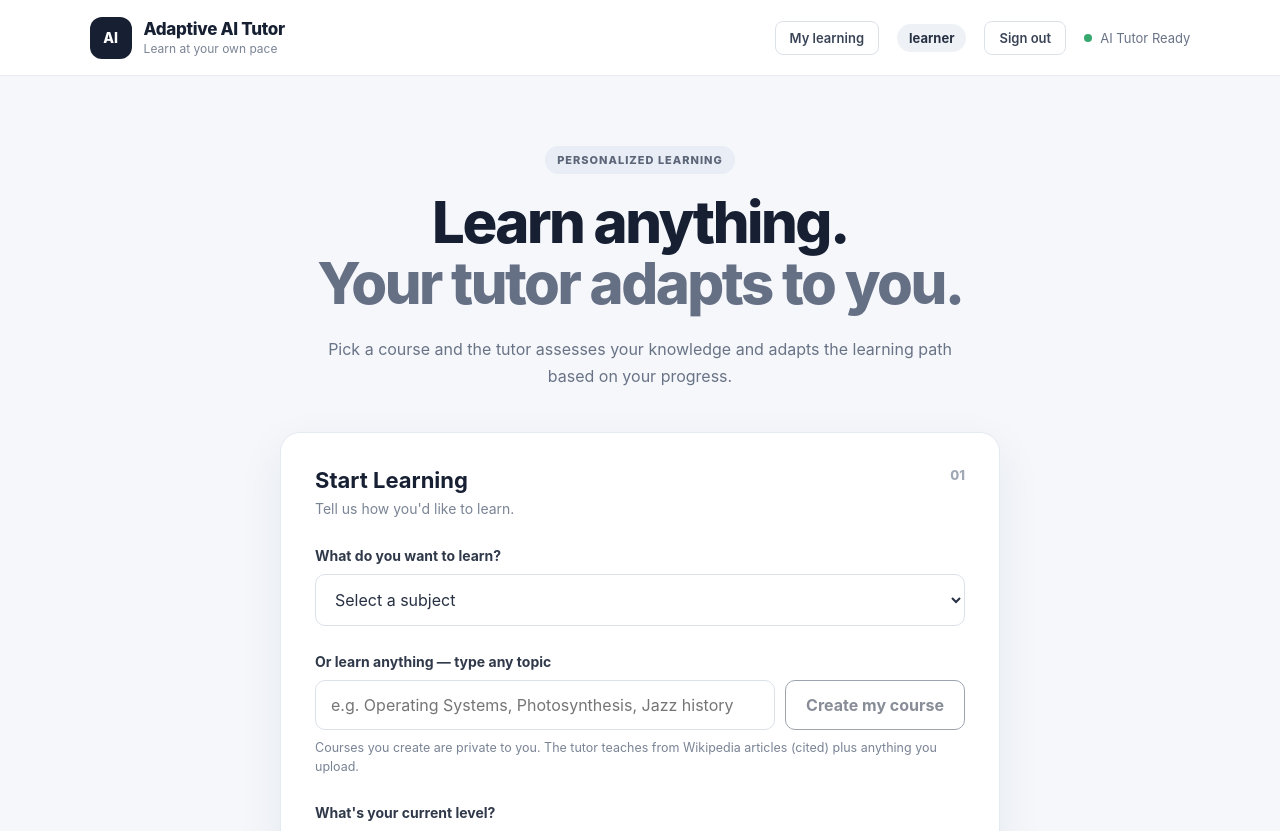
it: App › goes straight to reteach when the engine says so, using the new concept
Select "Computer Networks" in the dropdown labelled "What do you want to learn?" at (640, 600), box [315,574,965,626]
(page scrolled)
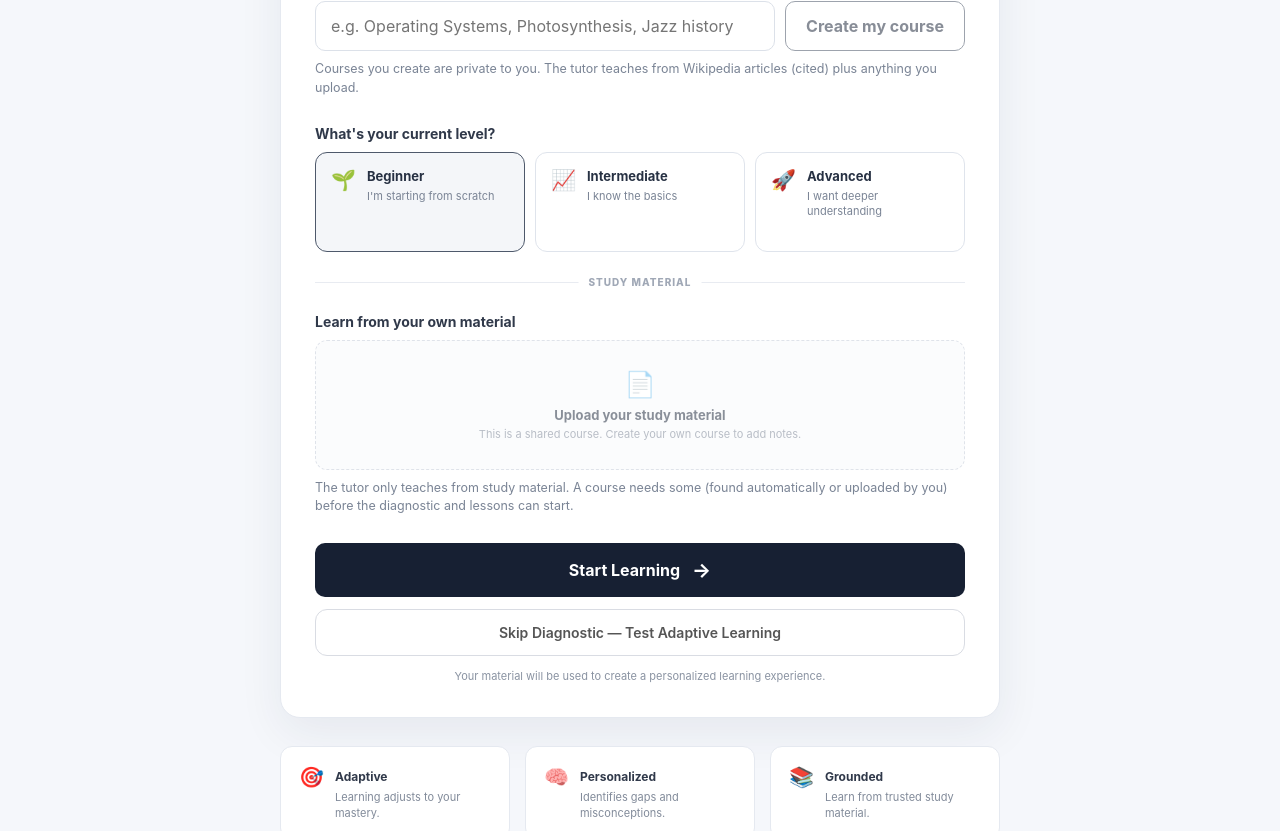
Click the button "Skip Diagnostic — Test Adaptive Learning" at (640, 633), box [315,609,965,656]
(page scrolled)
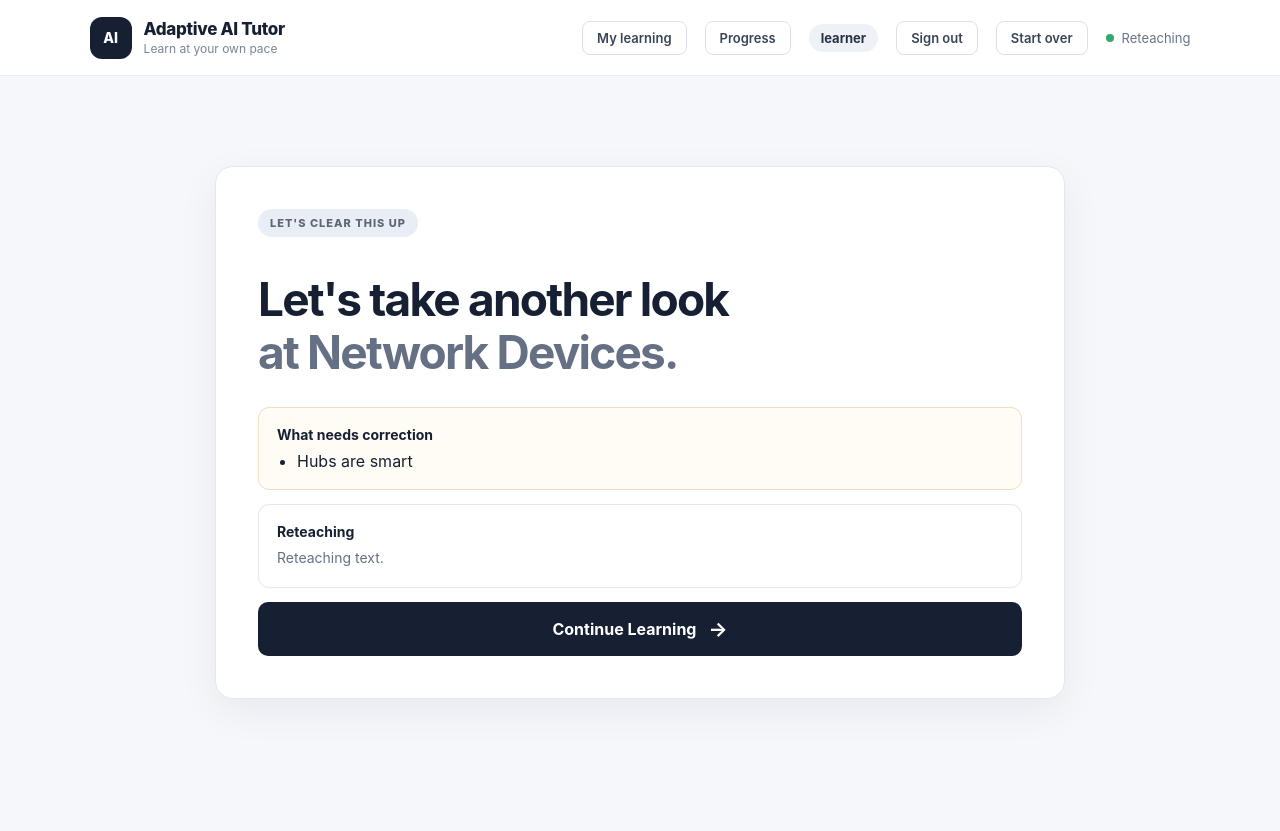
Result: the text "Reteaching text." is shown at [277,549,384,566]
Result: the list item "Hubs are smart" is shown at [297,451,413,471]
